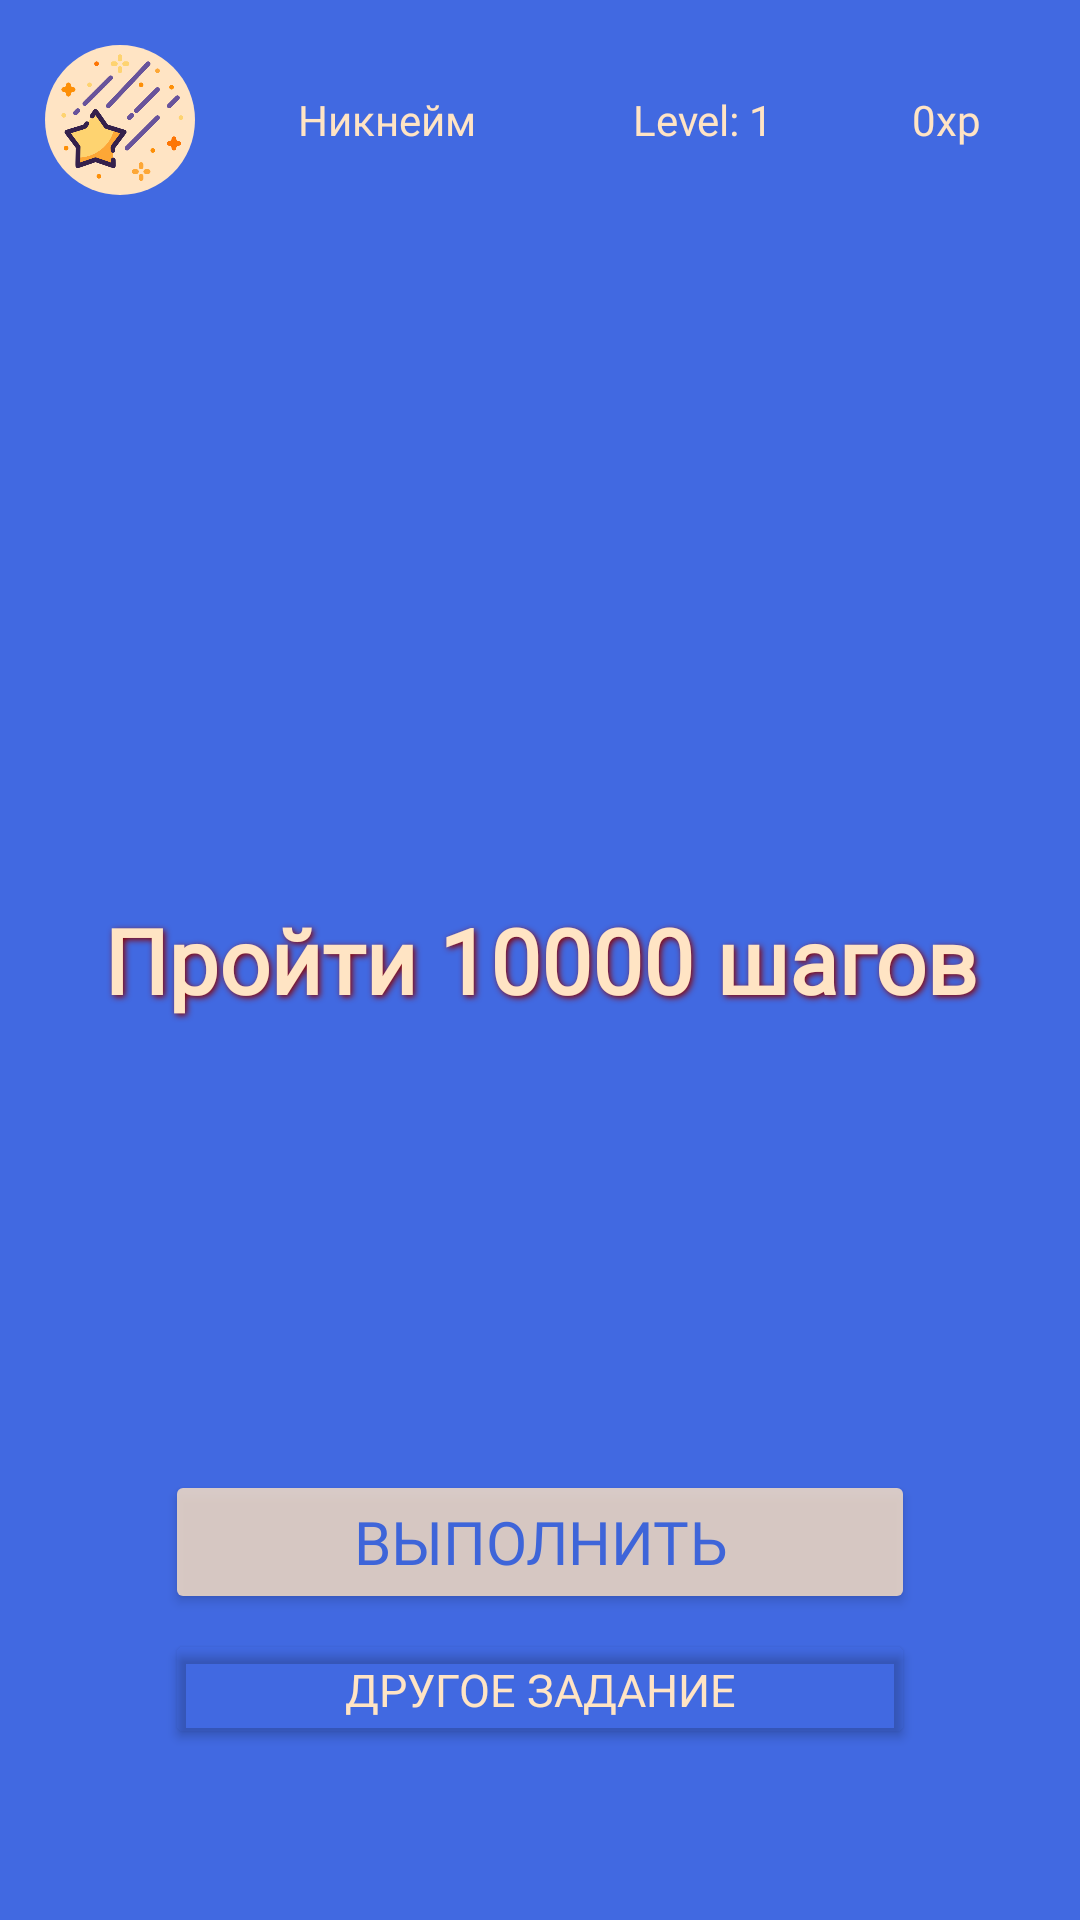

Named icons in this screenshot (1080 × 1920) and their centers, (x=x, y=y):
profile picture: (x=120, y=120)
